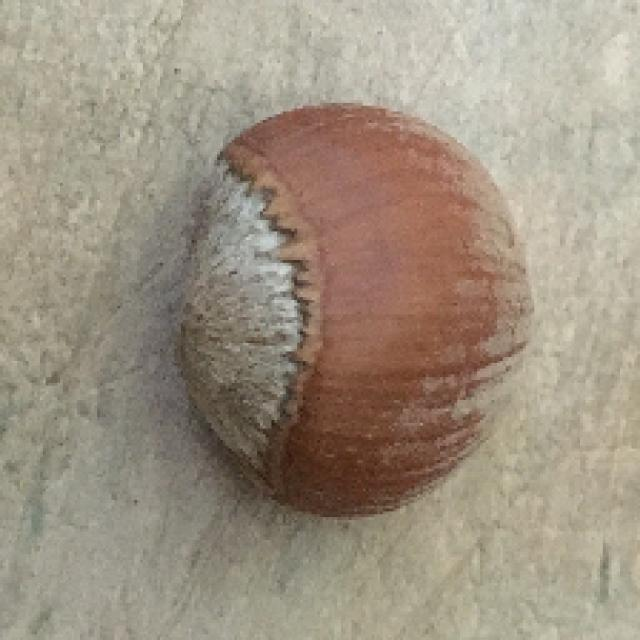QualityHazelnut: (176, 105, 541, 517)
